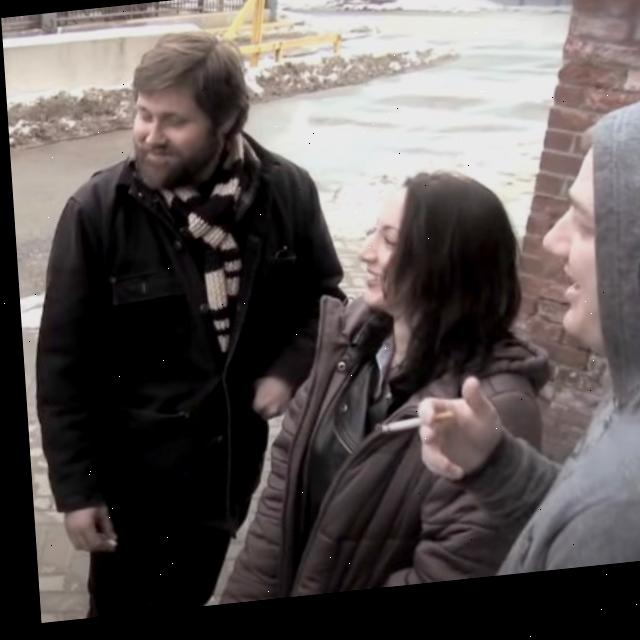cigarette: (373, 420, 447, 441), (89, 532, 112, 551)
